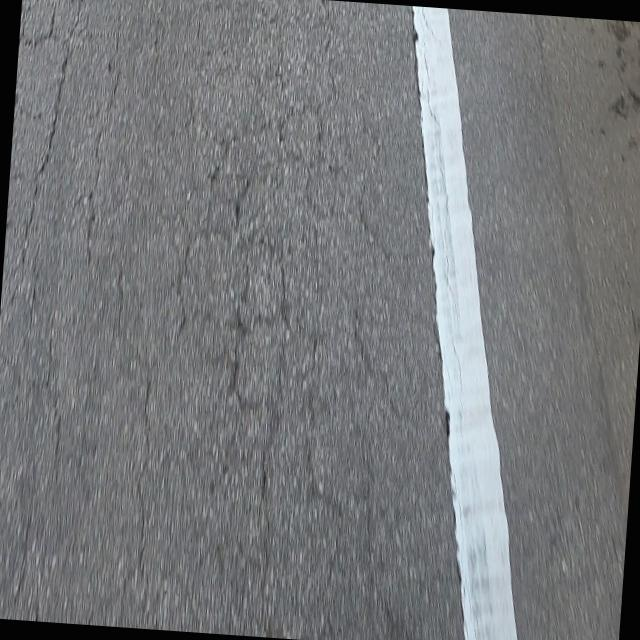Retak-Buaya: (0, 0, 394, 636)
Retak-Memanjang: (408, 6, 464, 624)
